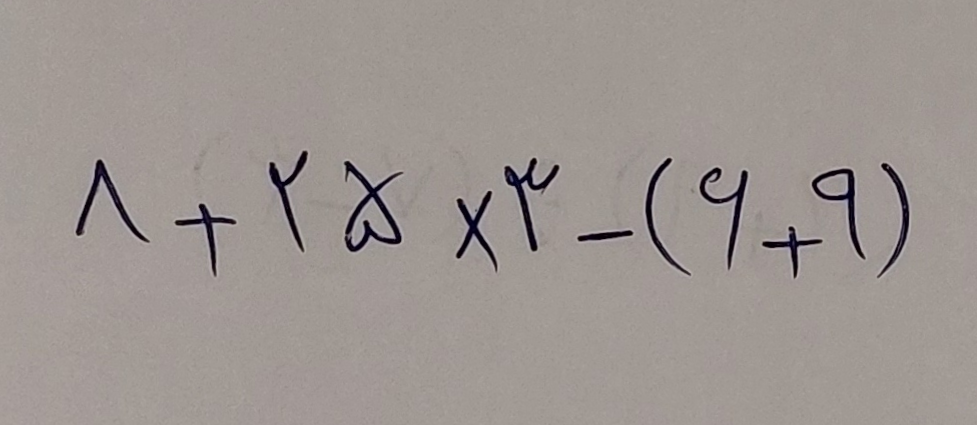character: (75, 160, 152, 243), (646, 157, 693, 275), (340, 158, 399, 249), (505, 157, 560, 253), (700, 166, 748, 272), (812, 169, 864, 261), (174, 203, 235, 278), (876, 161, 912, 277), (269, 149, 309, 253), (762, 225, 826, 281), (454, 192, 498, 271), (576, 229, 633, 243)
